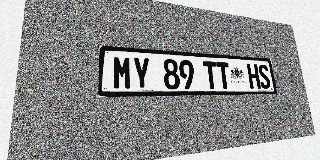8: (163, 59, 180, 89)
9: (179, 59, 195, 89)
H: (247, 64, 261, 89)
M: (113, 56, 132, 90)
S: (257, 64, 271, 89)
T: (203, 61, 219, 89), (216, 62, 231, 89)
Y: (132, 57, 151, 89)
